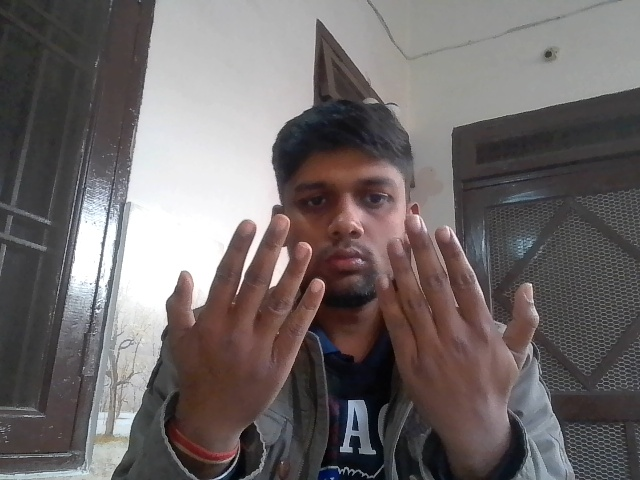ThankYou: (135, 197, 556, 452)
